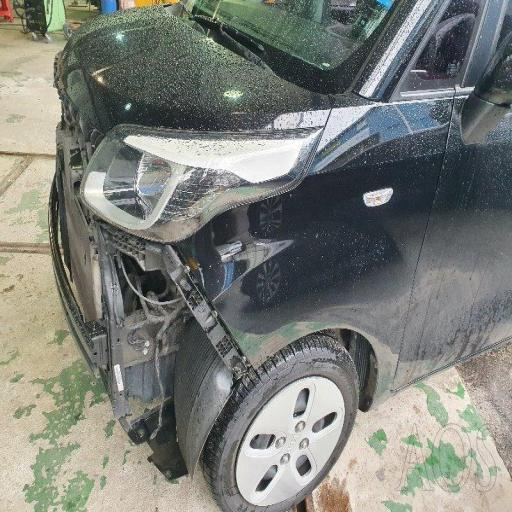broken: (70, 94, 332, 450)
